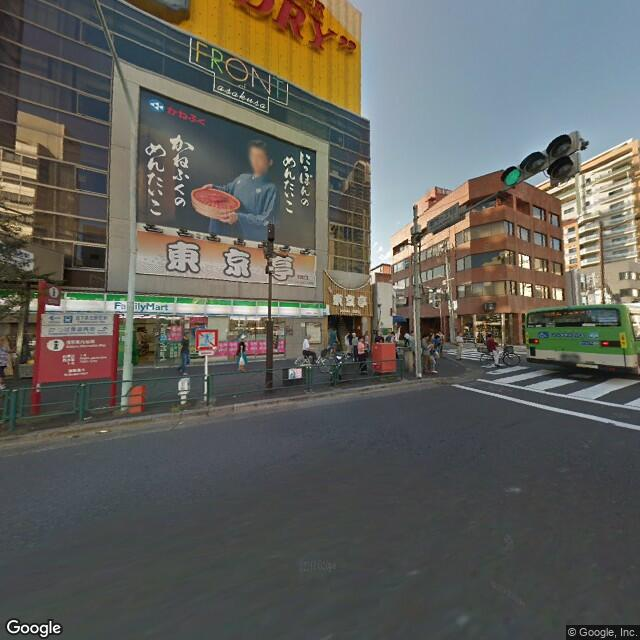family_mart: (29, 284, 327, 322)
